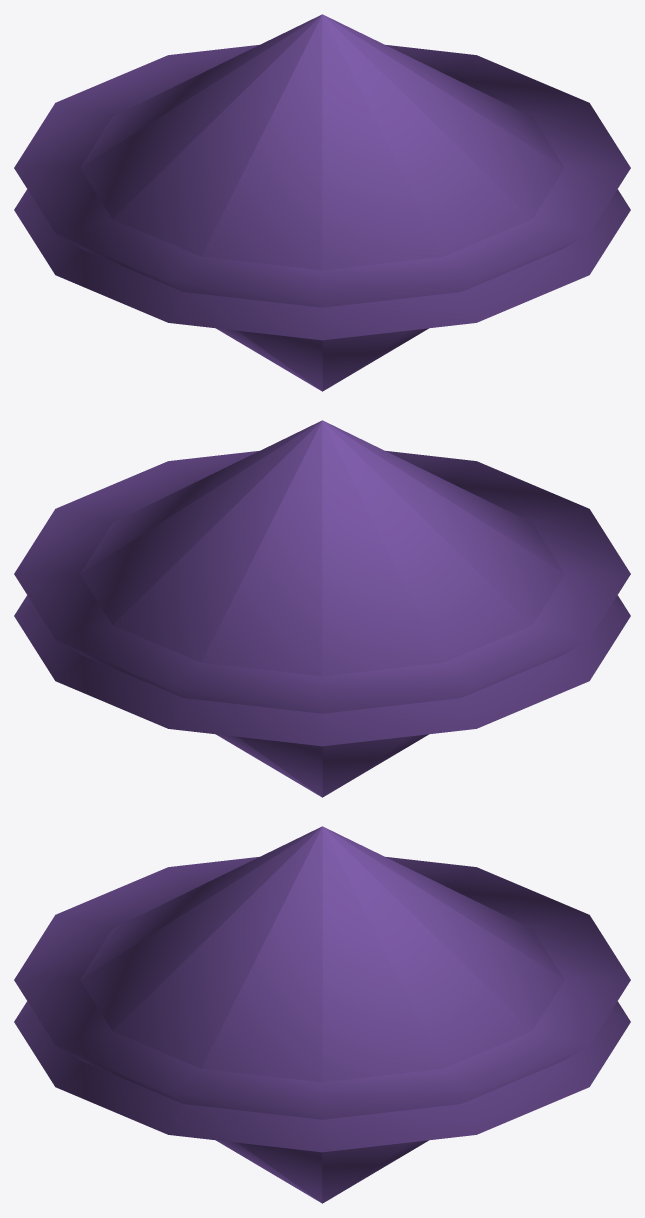
Rendered from seal_violet.glb.
The picture shows the model from 3 angles, top to bottom: view 1: azimuth 30°, elevation 25°; view 2: azimuth 150°, elevation 25°; view 3: azimuth 270°, elevation 25°; orthographic projection.
Parts seen in each view (by area): view 1: crystal_upper, crystal_lower; view 2: crystal_upper, crystal_lower; view 3: crystal_upper, crystal_lower.
Part boxes in pixels (bbox=[...]): crystal_upper: bbox=[14, 14, 630, 340]; crystal_lower: bbox=[14, 44, 630, 391]; crystal_upper: bbox=[14, 420, 630, 746]; crystal_lower: bbox=[14, 450, 630, 797]; crystal_upper: bbox=[14, 826, 630, 1152]; crystal_lower: bbox=[14, 856, 630, 1203].
Size of the model in its own units: 0.4 by 0.27 by 0.4.
